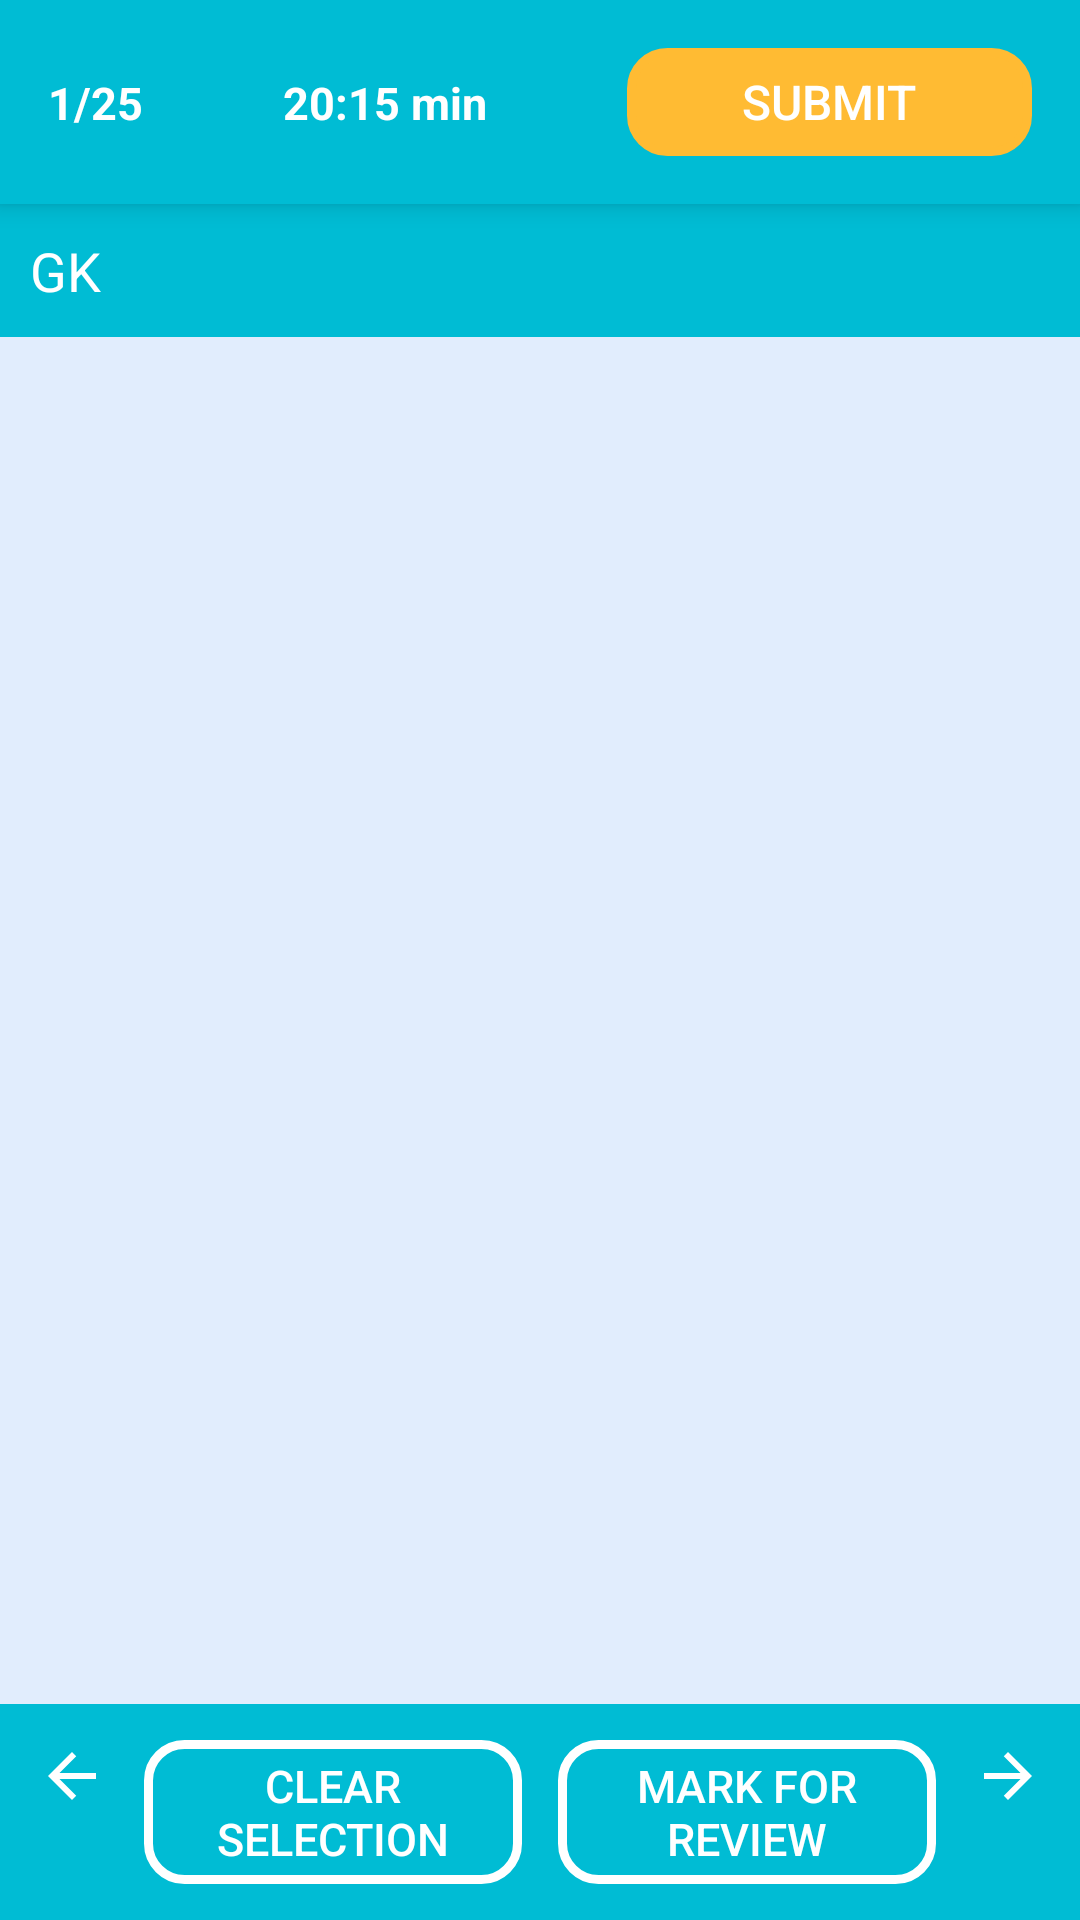

Named icons in this screenshot (1080×1920) and their centers, (x,y):
back: (72,1776)
next: (1008,1776)
